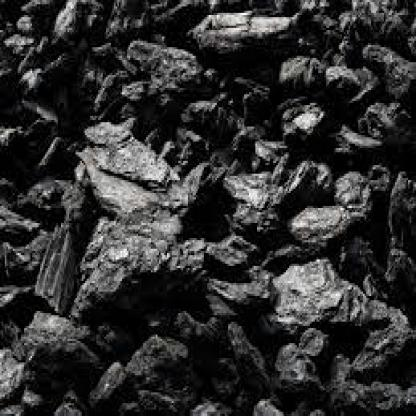Sedimentary_coal: (71, 193, 204, 315), (265, 258, 384, 350), (74, 109, 170, 206), (189, 6, 294, 64), (18, 306, 93, 368), (284, 195, 355, 257), (355, 36, 414, 103), (122, 326, 182, 379), (278, 96, 323, 146)
